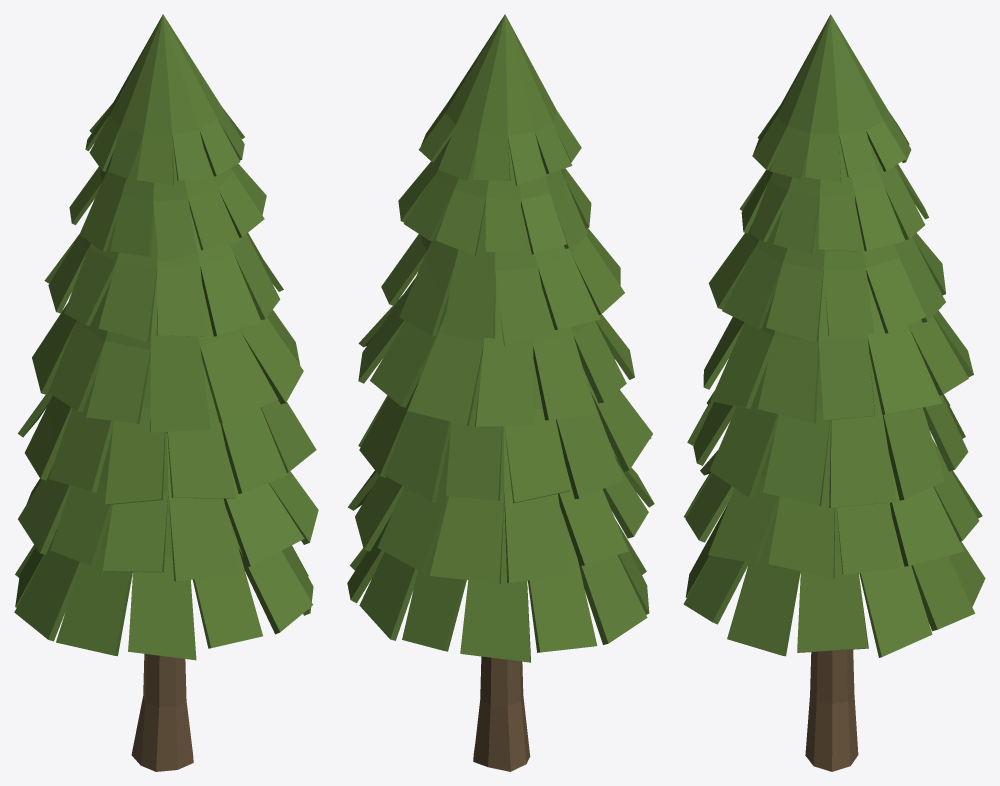
Rendered from Tree_18.glb.
The picture shows the model from 3 angles, left to right: view 1: azimuth 30°, elevation 25°; view 2: azimuth 150°, elevation 25°; view 3: azimuth 270°, elevation 25°; orthographic projection.
Parts seen in each view (by area): view 1: Tree_18_LOD0; view 2: Tree_18_LOD0; view 3: Tree_18_LOD0.
Part boxes in pixels (<box>): Tree_18_LOD0: <box>14,14,318,771</box>; Tree_18_LOD0: <box>347,14,654,771</box>; Tree_18_LOD0: <box>683,14,985,771</box>.
Size of what is drawn, in the model's own units: 1.65 by 4.44 by 1.64.
1 material, 1 textured.
